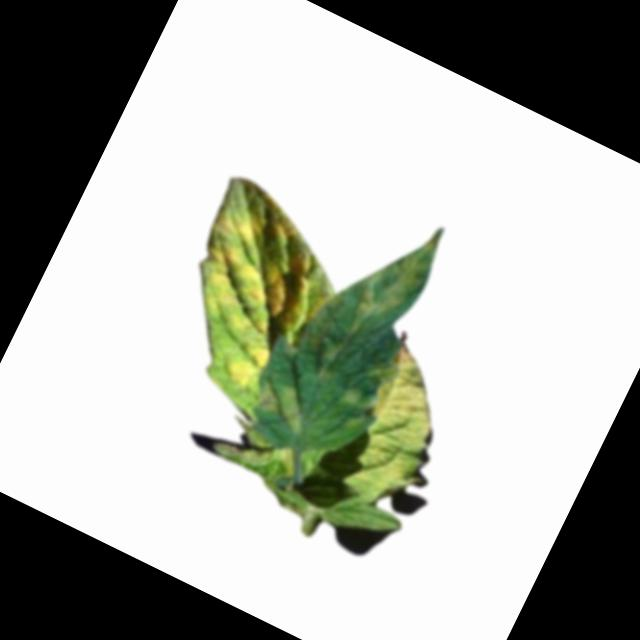Leaf_Mold: (173, 172, 360, 361), (332, 340, 466, 504), (341, 217, 446, 358), (253, 372, 325, 436), (218, 334, 275, 397), (309, 336, 349, 387)
